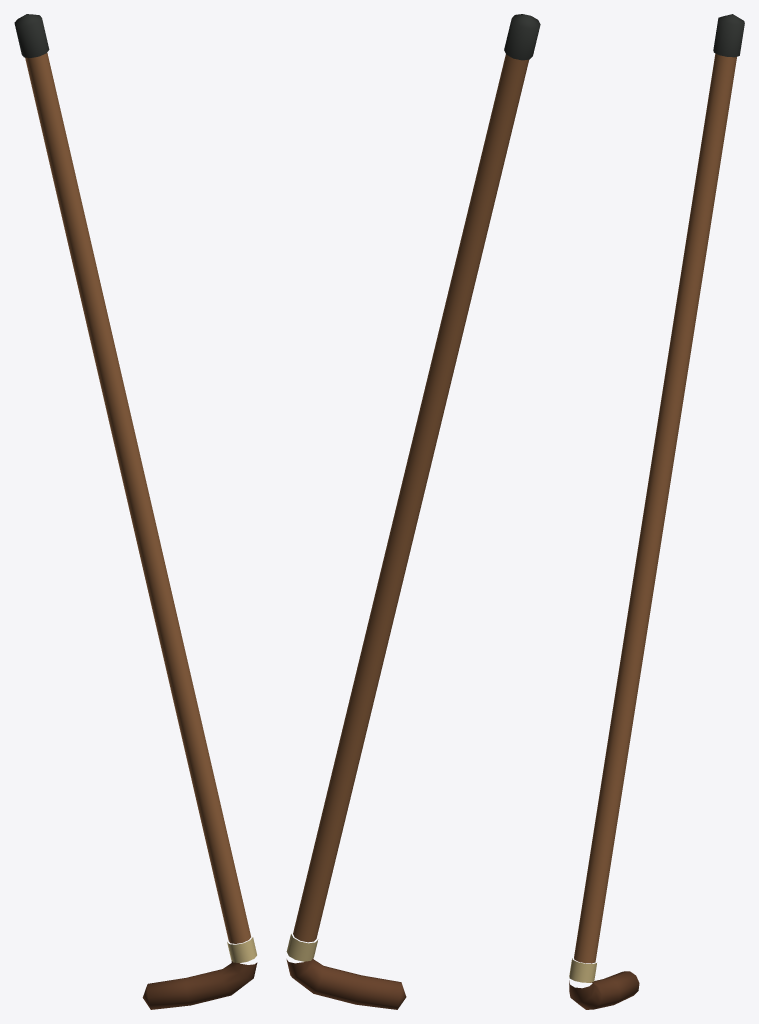
File: old-cane-tiao.glb
3 views of the same model, side by side, from view 1: azimuth 30°, elevation 25°; view 2: azimuth 210°, elevation 25°; view 3: azimuth 270°, elevation 25° (orthographic). The views are drawn at different scales.
Visible parts, largest first — view 1: Acc_Male_Hand_Cane; view 2: Acc_Male_Hand_Cane; view 3: Acc_Male_Hand_Cane.
Part boxes in pixels (x1,y1,x2,y2): Acc_Male_Hand_Cane: (14, 14, 257, 1009); Acc_Male_Hand_Cane: (286, 14, 540, 1009); Acc_Male_Hand_Cane: (569, 14, 744, 1009).
Bounding box in the file's own units: 0.0889 × 0.5081 × 0.0853.
